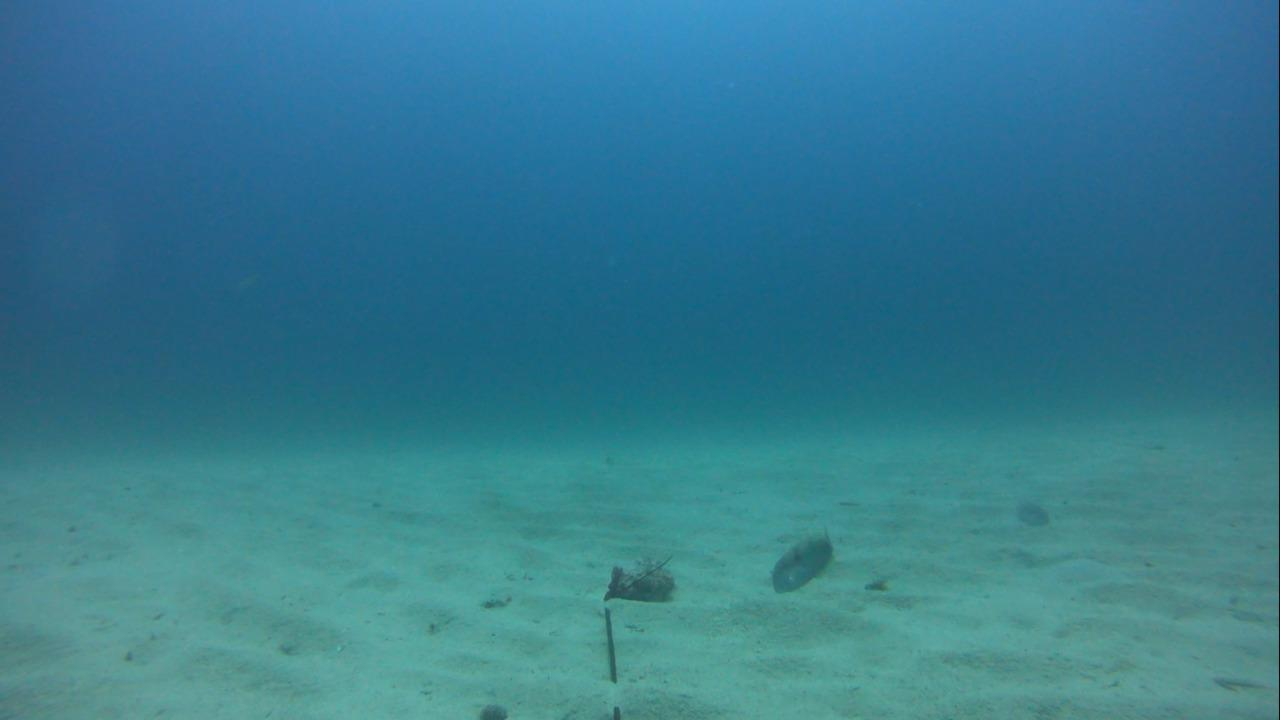raor: (762, 525, 839, 602), (998, 493, 1059, 534)
